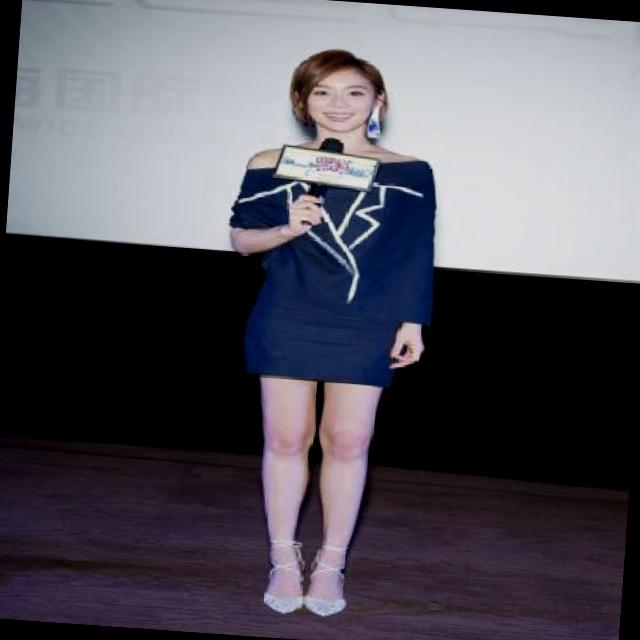Person: (191, 13, 454, 640)
